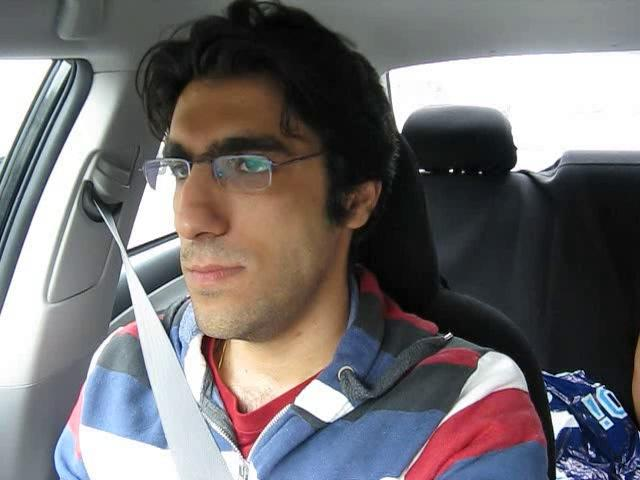no_yawn: (169, 250, 251, 298)
open_eyeL: (162, 153, 194, 184)
open_eyeR: (218, 146, 290, 187)
